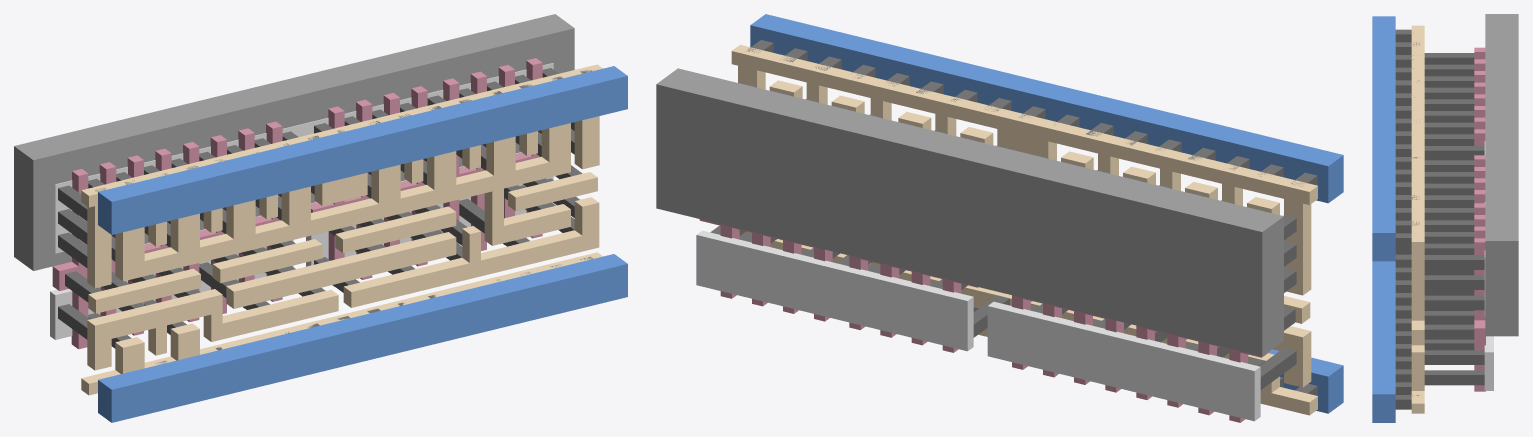
Rendered from sky130_fd_sc_hd__nand4_4.gds.gltf.
3 renders of one model, left to right at view 1: azimuth 30°, elevation 25°; view 2: azimuth 150°, elevation 25°; view 3: azimuth 270°, elevation 25°, orthographic. The views are drawn at different scales.
Visible parts, largest first — view 1: sky130_fd_sc_hd__nand4_4_li1, sky130_fd_sc_hd__nand4_4_met1, sky130_fd_sc_hd__nand4_4_nwell, sky130_fd_sc_hd__nand4_4_licon, sky130_fd_sc_hd__nand4_4_poly, sky130_fd_sc_hd__nand4_4_diff, sky130_fd_sc_hd__nand4_4_mcon; view 2: sky130_fd_sc_hd__nand4_4_nwell, sky130_fd_sc_hd__nand4_4_diff, sky130_fd_sc_hd__nand4_4_li1, sky130_fd_sc_hd__nand4_4_met1, sky130_fd_sc_hd__nand4_4_poly, sky130_fd_sc_hd__nand4_4_licon, sky130_fd_sc_hd__nand4_4_mcon; view 3: sky130_fd_sc_hd__nand4_4_licon, sky130_fd_sc_hd__nand4_4_nwell, sky130_fd_sc_hd__nand4_4_met1, sky130_fd_sc_hd__nand4_4_mcon, sky130_fd_sc_hd__nand4_4_li1, sky130_fd_sc_hd__nand4_4_poly, sky130_fd_sc_hd__nand4_4_diff.
Part boxes in pixels (left/top/right/bottom): sky130_fd_sc_hd__nand4_4_li1: left=81, top=64, right=602, bottom=395; sky130_fd_sc_hd__nand4_4_met1: left=98, top=66, right=627, bottom=422; sky130_fd_sc_hd__nand4_4_nwell: left=14, top=14, right=574, bottom=270; sky130_fd_sc_hd__nand4_4_licon: left=58, top=68, right=582, bottom=348; sky130_fd_sc_hd__nand4_4_poly: left=52, top=58, right=542, bottom=349; sky130_fd_sc_hd__nand4_4_diff: left=50, top=63, right=553, bottom=339; sky130_fd_sc_hd__nand4_4_mcon: left=95, top=70, right=592, bottom=364; sky130_fd_sc_hd__nand4_4_nwell: left=656, top=68, right=1283, bottom=356; sky130_fd_sc_hd__nand4_4_diff: left=696, top=230, right=1260, bottom=421; sky130_fd_sc_hd__nand4_4_li1: left=731, top=44, right=1317, bottom=415; sky130_fd_sc_hd__nand4_4_met1: left=750, top=14, right=1343, bottom=413; sky130_fd_sc_hd__nand4_4_poly: left=699, top=219, right=1269, bottom=422; sky130_fd_sc_hd__nand4_4_licon: left=710, top=83, right=1296, bottom=389; sky130_fd_sc_hd__nand4_4_mcon: left=746, top=40, right=1317, bottom=395; sky130_fd_sc_hd__nand4_4_licon: left=1424, top=53, right=1484, bottom=385; sky130_fd_sc_hd__nand4_4_nwell: left=1485, top=14, right=1518, bottom=336; sky130_fd_sc_hd__nand4_4_met1: left=1372, top=16, right=1395, bottom=422; sky130_fd_sc_hd__nand4_4_mcon: left=1395, top=29, right=1419, bottom=409; sky130_fd_sc_hd__nand4_4_li1: left=1411, top=25, right=1424, bottom=413; sky130_fd_sc_hd__nand4_4_poly: left=1474, top=47, right=1485, bottom=391; sky130_fd_sc_hd__nand4_4_diff: left=1484, top=141, right=1493, bottom=390.
Bounding box in the file's own units: 8.2 × 3.2 × 2.24.
